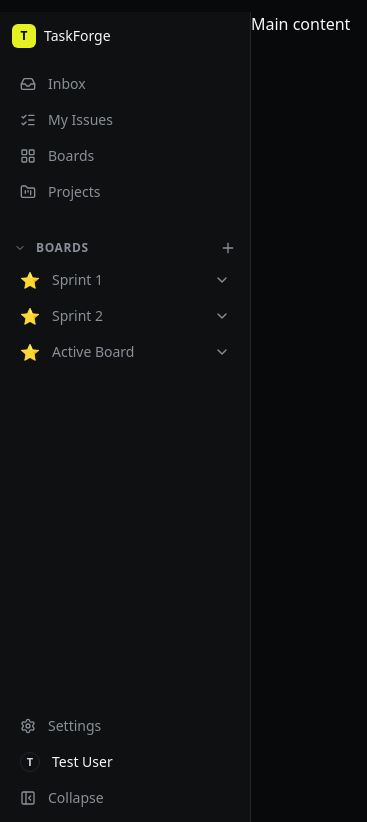
Scenario: SidebarLayout › expands boards section when chevron is clicked again
Click the 2nd button: (20, 248) [8,236,32,260]
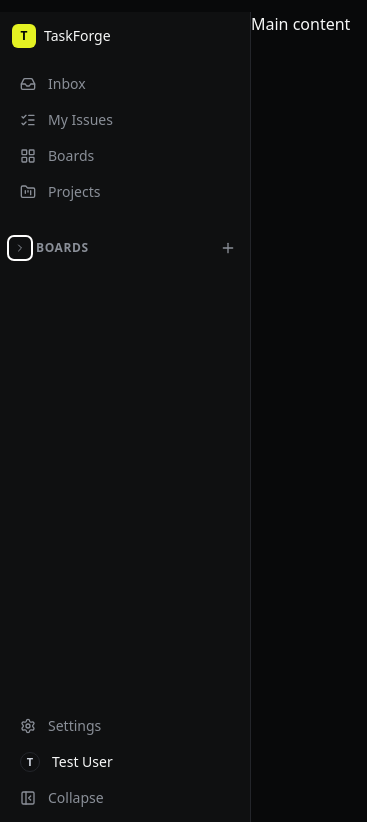
Expected: the button "Sprint 1" is gone
// Expand again
Click the 2nd button: (20, 248) [8,236,32,260]
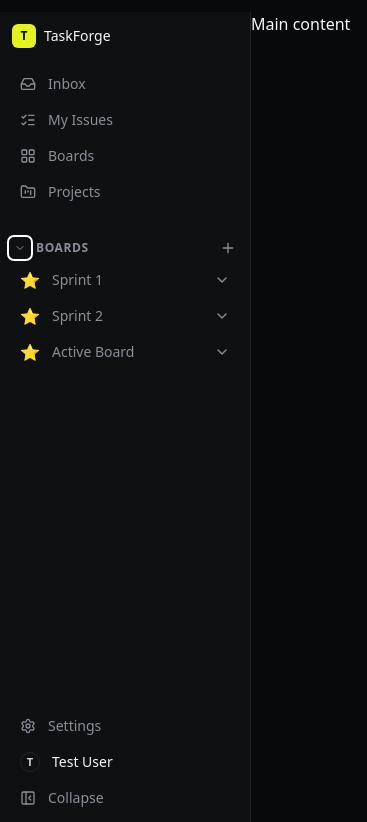
Expected: the text "Sprint 1" is shown, [52,270,103,290]
